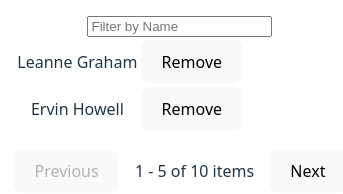
Scenario: User List › removes user
The width and height of the screenshot is (343, 194).
Expected: the text "Leanne Graham" is shown, [16,39,138,84]
Click the button "Remove" next to "Leanne Graham": (192, 62) [141,40,242,83]
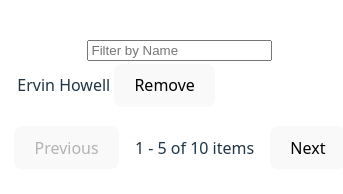
Now the number of buttons "Remove" is 1, box [114,64,215,107]
